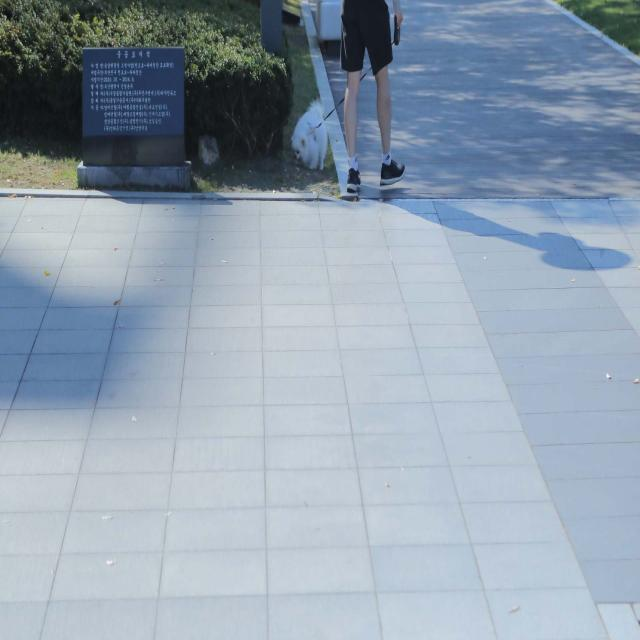Leashed_Dog: (292, 62, 360, 176)
